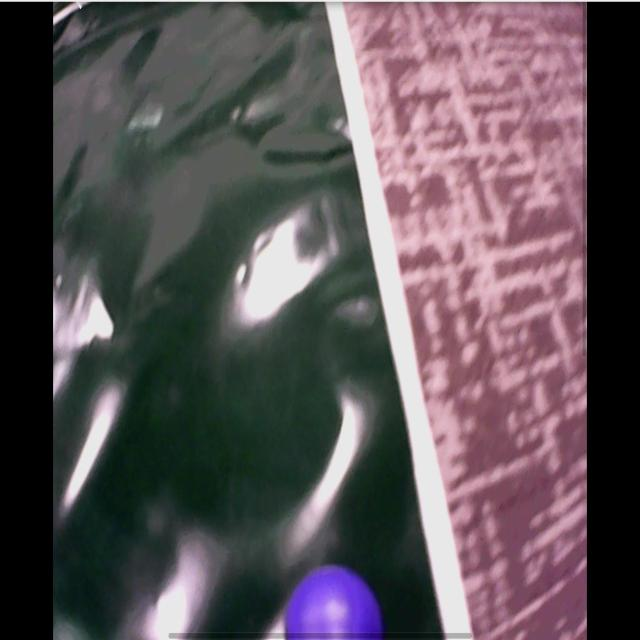ball: (285, 566, 388, 640)
